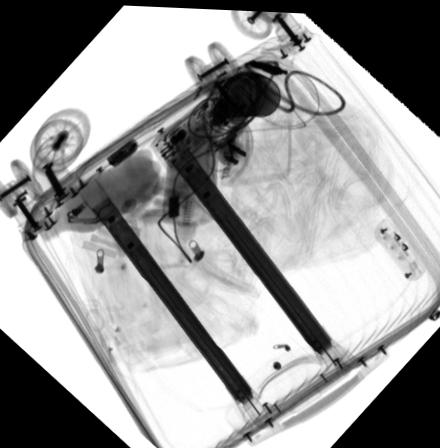Gun: (248, 57, 291, 74)
